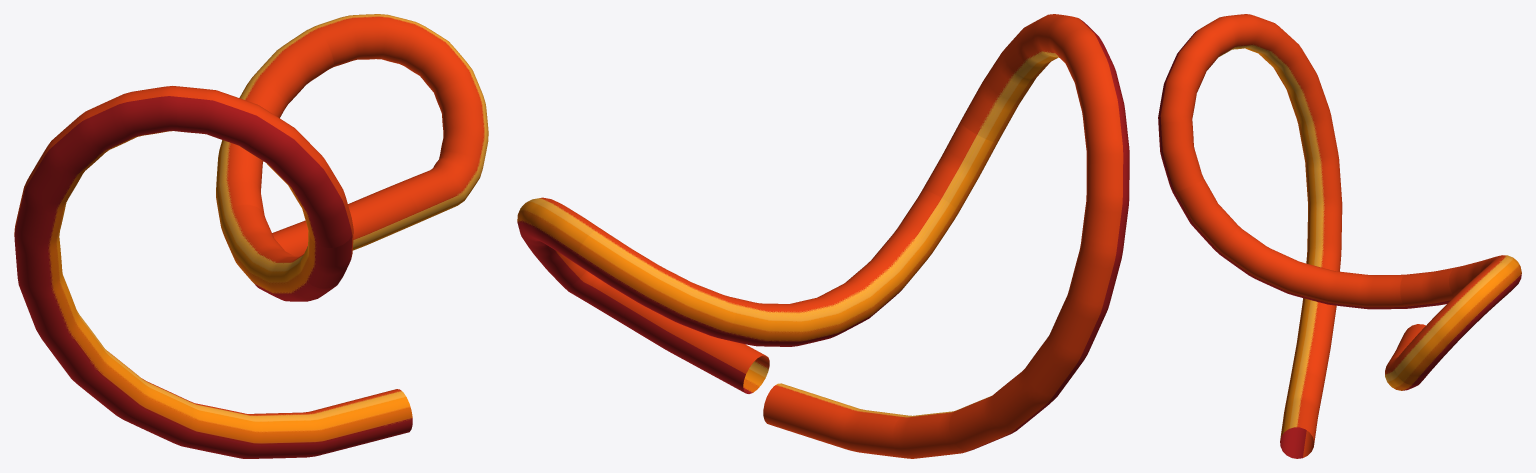
The model's file is path pipe.fbx.
3 renders of one model, left to right at view 1: azimuth 30°, elevation 25°; view 2: azimuth 150°, elevation 25°; view 3: azimuth 270°, elevation 25°, orthographic. The views are drawn at different scales.
Parts seen in each view (by area): view 1: Cylinder; view 2: Cylinder; view 3: Cylinder.
Part boxes in pixels (x1=…): Cylinder: x1=14, y1=14, x2=488, y2=458; Cylinder: x1=517, y1=14, x2=1129, y2=458; Cylinder: x1=1158, y1=14, x2=1521, y2=458.
Size of the model in its own units: 37816 by 29889 by 28886.
